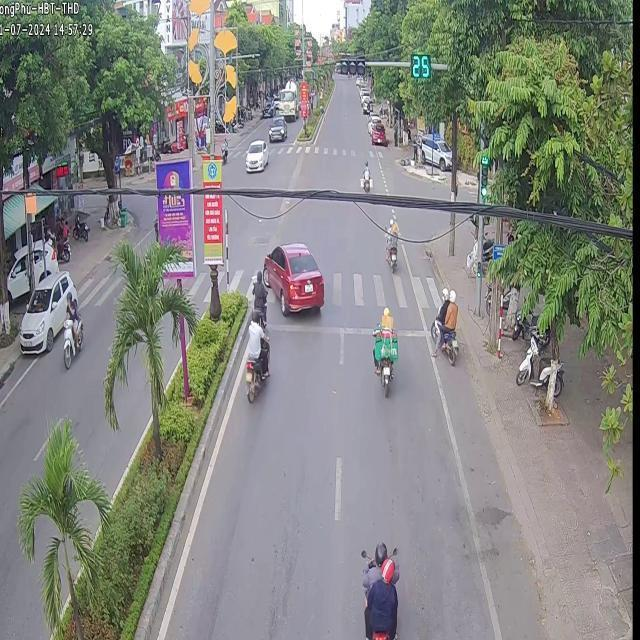car: (262, 239, 322, 316)
green_light: (340, 53, 363, 72), (479, 150, 487, 196)
motobike: (244, 307, 268, 414), (372, 307, 397, 396), (434, 285, 457, 361), (251, 263, 266, 346), (383, 219, 397, 269)
stop_line: (268, 320, 426, 335)
